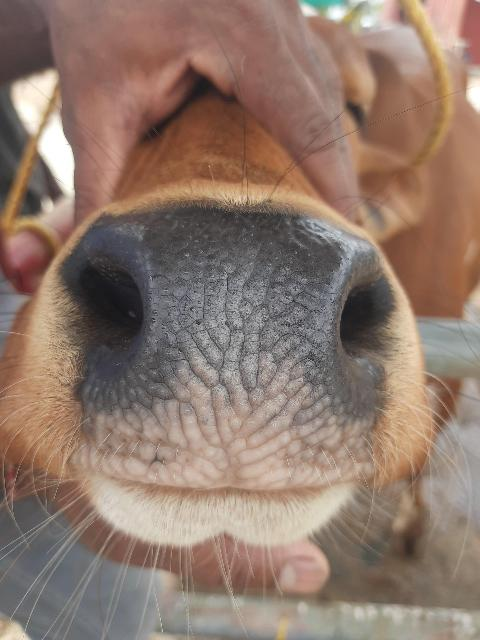Muzzle: (94, 225, 368, 481)
